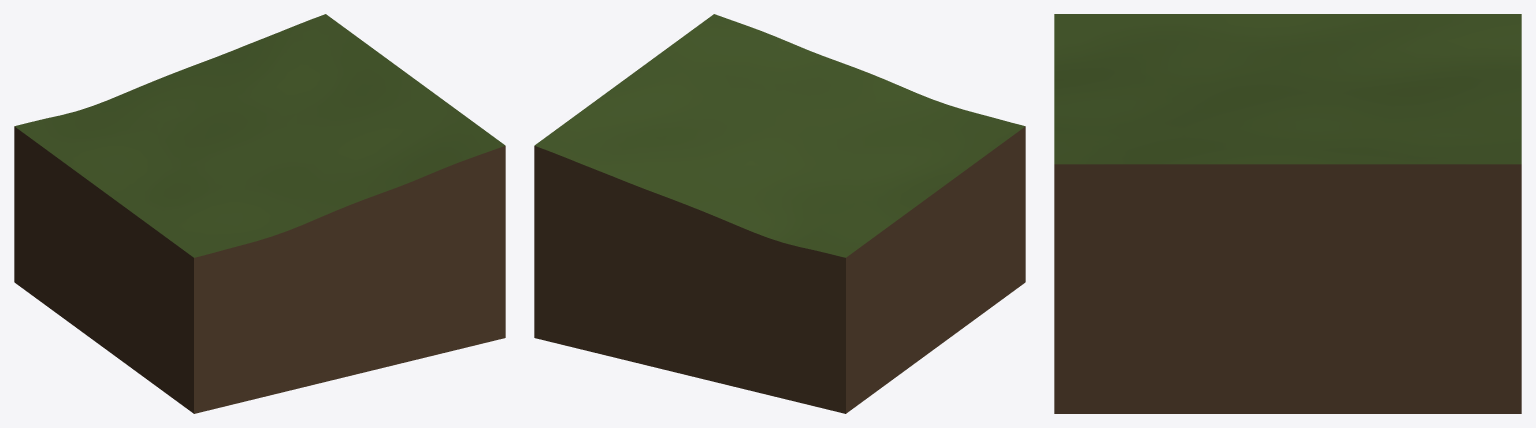
3 renders of one model, left to right at view 1: azimuth 30°, elevation 25°; view 2: azimuth 150°, elevation 25°; view 3: azimuth 270°, elevation 25°, orthographic. The views are drawn at different scales.
Visible parts, largest first — view 1: d0go; view 2: d0go; view 3: d0go.
Part boxes in pixels (x1,y1,x2,y2): d0go: (14,14,505,413); d0go: (534,14,1025,413); d0go: (1054,14,1521,413).
Size of the model in its own units: 9 by 5.31 by 9.
